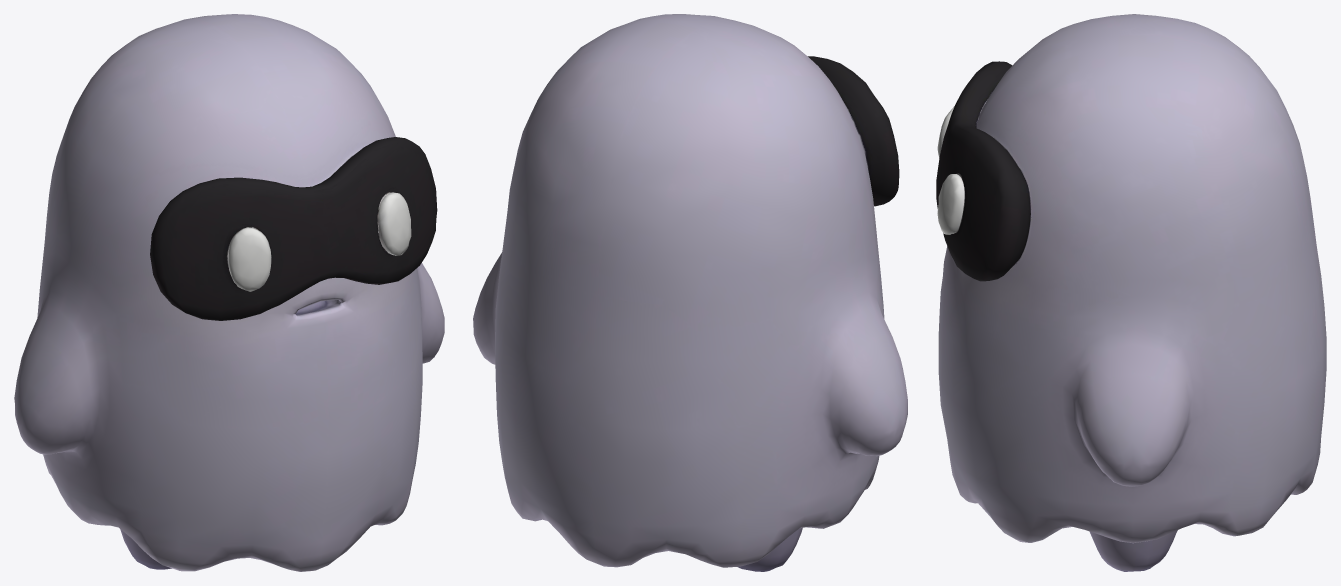
File: asset_pack_item_glb-vd7d0dcraj58ycbcm7n9arqjjx8bztjr-7-ks7d1dyw0jfh2hdtfgn8ycnge98bz6ks.glb
3 views of the same model, side by side, from view 1: azimuth 30°, elevation 25°; view 2: azimuth 150°, elevation 25°; view 3: azimuth 270°, elevation 25° (orthographic). The views are drawn at different scales.
Visible parts, largest first — view 1: adult-masku; view 2: adult-masku; view 3: adult-masku.
Part boxes in pixels (x1,y1,x2,y2): adult-masku: (14, 14, 444, 571); adult-masku: (473, 14, 907, 571); adult-masku: (936, 14, 1326, 571).
Bounding box in the file's own units: 0.8496 × 0.998 × 0.709.
1 material, 1 textured.
